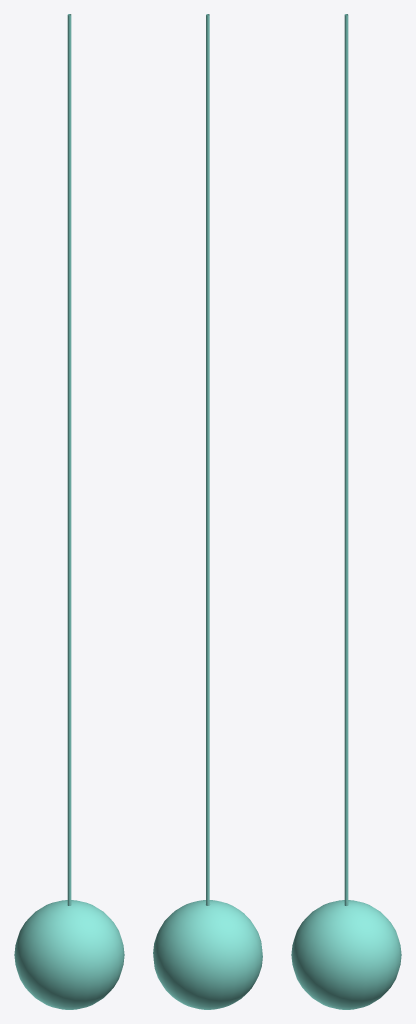
Rendered from MSH_Lobby2_LamparaCristal.fbx.
3 renders of one model, left to right at view 1: azimuth 90°, elevation 25°; view 2: azimuth 210°, elevation 25°; view 3: azimuth 270°, elevation 25°, orthographic.
Parts seen in each view (by area): view 1: MSH_Lobby2_LamparaCristal; view 2: MSH_Lobby2_LamparaCristal; view 3: MSH_Lobby2_LamparaCristal.
Boxes of the visible parts, bbox=[...] form: MSH_Lobby2_LamparaCristal: bbox=[14, 14, 124, 1009]; MSH_Lobby2_LamparaCristal: bbox=[153, 14, 262, 1009]; MSH_Lobby2_LamparaCristal: bbox=[291, 14, 401, 1009].
Size of the model in its own units: 17.18 by 172 by 17.3.
